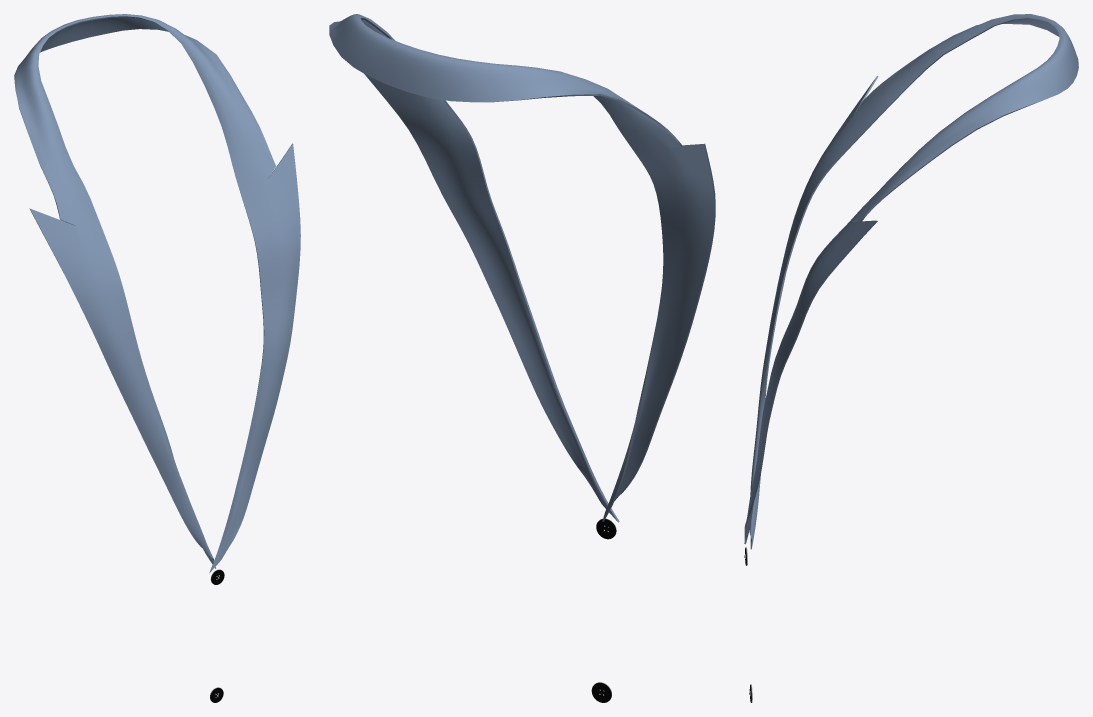
Rendered from SM_CarlosSA_Jacket_SingleBreasted_Lapel_Peak9CM.fbx.
3 renders of one model, left to right at view 1: azimuth 30°, elevation 25°; view 2: azimuth 150°, elevation 25°; view 3: azimuth 270°, elevation 25°, orthographic. The views are drawn at different scales.
Parts seen in each view (by area): view 1: SM_CarlosSA_Jacket_SingleBreasted_Lapel_Peak9CM; view 2: SM_CarlosSA_Jacket_SingleBreasted_Lapel_Peak9CM; view 3: SM_CarlosSA_Jacket_SingleBreasted_Lapel_Peak9CM.
Part boxes in pixels (box(x1,y1,x2,y2)): SM_CarlosSA_Jacket_SingleBreasted_Lapel_Peak9CM: box(14, 14, 300, 702); SM_CarlosSA_Jacket_SingleBreasted_Lapel_Peak9CM: box(329, 14, 715, 702); SM_CarlosSA_Jacket_SingleBreasted_Lapel_Peak9CM: box(744, 14, 1078, 702).
Size of the model in its own units: 0.268 by 0.5674 by 0.2594.
